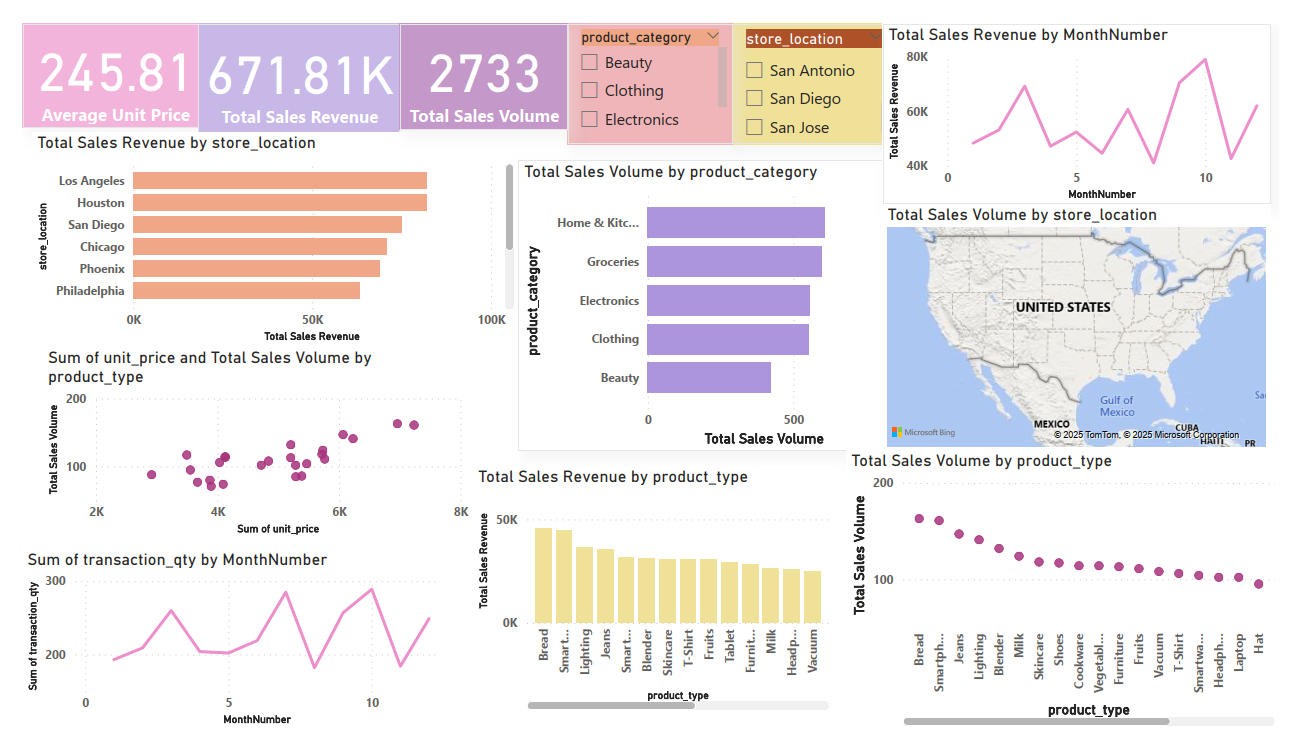

The dashboard page shown, as its layout file describes it:
{"tool":"powerbi","page":{"name":"Page 1","canvas":[1280,720],"ordinal":0},"visuals":[{"type":"card","fields":{"Values":["sales.Average Unit Price"]},"box":[0,0,187.5,106.2],"z":0},{"type":"card","fields":{"Values":["sales.Total Sales Revenue"]},"box":[178.8,0,205,111.2],"z":1000},{"type":"clusteredBarChart","fields":{"Y":["sales.Total Sales Revenue"],"Category":["sales.store_location"]},"box":[10,111.2,495,218.8],"z":2000},{"type":"slicer","fields":{"Values":["sales.store_location"]},"box":[722.5,0,166.2,122.5],"z":3000},{"type":"barChart","fields":{"Y":["sales.Total Sales Volume"],"Category":["sales.product_category"]},"box":[505,138.8,383.8,296.2],"z":4000},{"type":"slicer","fields":{"Values":["sales.product_category"]},"box":[555,0,167.5,122.5],"z":5000},{"type":"card","fields":{"Values":["sales.Total Sales Volume"]},"box":[383.8,0,171.2,107.5],"z":6000},{"type":"lineChart","fields":{"Y":["sales.Total Sales Revenue"],"Category":["sales.MonthNumber"]},"box":[876.2,0,395,183.8],"z":7000},{"type":"lineChart","fields":{"Category":["sales.MonthNumber"],"Y":["Sum(sales.transaction_qty)"]},"box":[0,535,428.8,185],"z":8000},{"type":"scatterChart","fields":{"X":["Sum(sales.unit_price)"],"Y":["sales.Total Sales Volume"],"Category":["sales.product_type"]},"box":[21.2,330,437.5,196.2],"z":9000},{"type":"columnChart","fields":{"Category":["sales.product_type"],"Y":["sales.Total Sales Revenue"]},"box":[458.8,451.2,367.5,252.5],"z":10000},{"type":"filledMap","fields":{"Category":["sales.store_location"]},"box":[876.2,183.8,395,252.5],"z":10001},{"type":"scatterChart","fields":{"X":["sales.product_type"],"Y":["sales.Total Sales Volume"]},"box":[838.8,435,441.2,285],"z":10002}]}

Visuals, with their boxes in screenshot pixels (x1, y1, x2, y2), scaled from the page's 1280x720 canvas onto the 1300x753 screenshot:
card - sales.Average Unit Price: Rect(0, 0, 190, 111)
card - sales.Total Sales Revenue: Rect(182, 0, 390, 116)
clusteredBarChart - sales.Total Sales Revenue x sales.store_location: Rect(10, 116, 513, 345)
slicer - sales.store_location: Rect(734, 0, 903, 128)
barChart - sales.Total Sales Volume x sales.product_category: Rect(513, 145, 903, 455)
slicer - sales.product_category: Rect(564, 0, 734, 128)
card - sales.Total Sales Volume: Rect(390, 0, 564, 112)
lineChart - sales.Total Sales Revenue x sales.MonthNumber: Rect(890, 0, 1291, 192)
lineChart - sales.MonthNumber x Sum(sales.transaction_qty): Rect(0, 560, 436, 752)
scatterChart - Sum(sales.unit_price) x sales.Total Sales Volume: Rect(22, 345, 466, 550)
columnChart - sales.product_type x sales.Total Sales Revenue: Rect(466, 472, 839, 736)
filledMap - sales.store_location: Rect(890, 192, 1291, 456)
scatterChart - sales.product_type x sales.Total Sales Volume: Rect(852, 455, 1299, 752)
